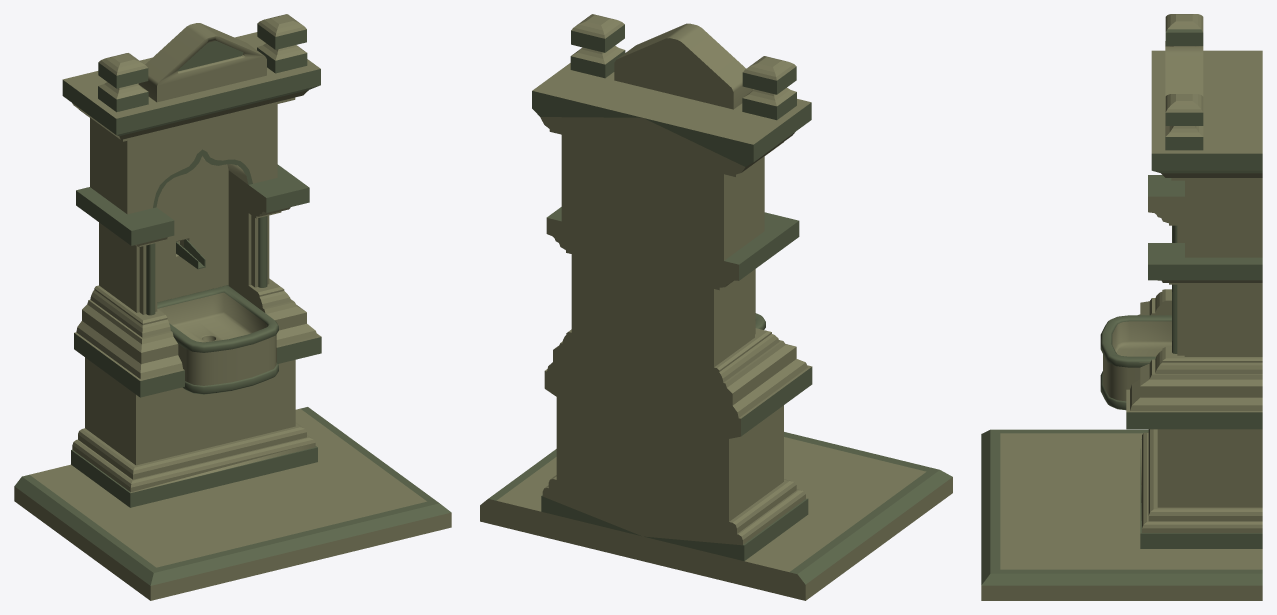
Rendered from drink_fontain.fbx.
The picture shows the model from 3 angles, left to right: view 1: azimuth 30°, elevation 25°; view 2: azimuth 150°, elevation 25°; view 3: azimuth 270°, elevation 25°; orthographic projection. The views are drawn at different scales.
Parts seen in each view (by area): view 1: drink_fontain; view 2: drink_fontain; view 3: drink_fontain.
Part boxes in pixels (<box>): drink_fontain: <box>14,14,451,600</box>; drink_fontain: <box>480,14,952,600</box>; drink_fontain: <box>981,14,1262,600</box>.
Bounding box in the file's own units: 1.95 × 2.86 × 1.53.
